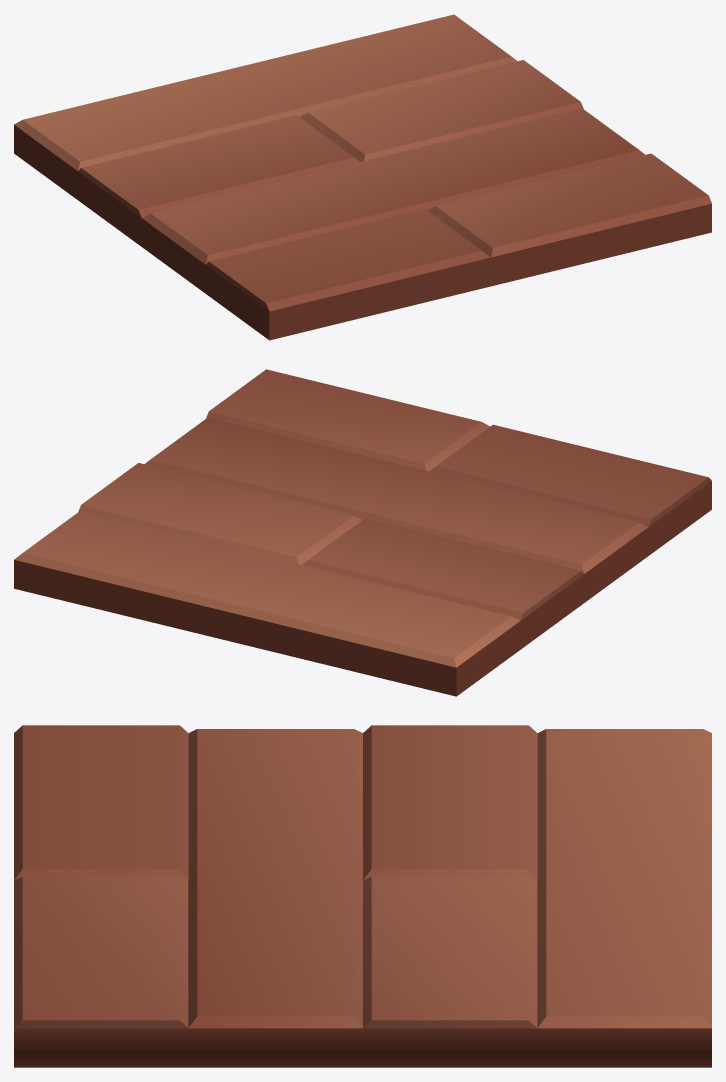
The model's file is floor_wood_small.gltf.glb.
The picture shows the model from 3 angles, top to bottom: view 1: azimuth 30°, elevation 25°; view 2: azimuth 150°, elevation 25°; view 3: azimuth 270°, elevation 25°; orthographic projection. The views are drawn at different scales.
Visible parts, largest first — view 1: floor_wood_small; view 2: floor_wood_small; view 3: floor_wood_small.
Boxes of the visible parts, left/top/right/bottom form: floor_wood_small: left=14, top=14, right=711, bottom=340; floor_wood_small: left=14, top=369, right=711, bottom=696; floor_wood_small: left=14, top=725, right=711, bottom=1067.
Bounding box in the file's own units: 2 × 0.15 × 2.
Materials: 1 (1 with a texture image).
